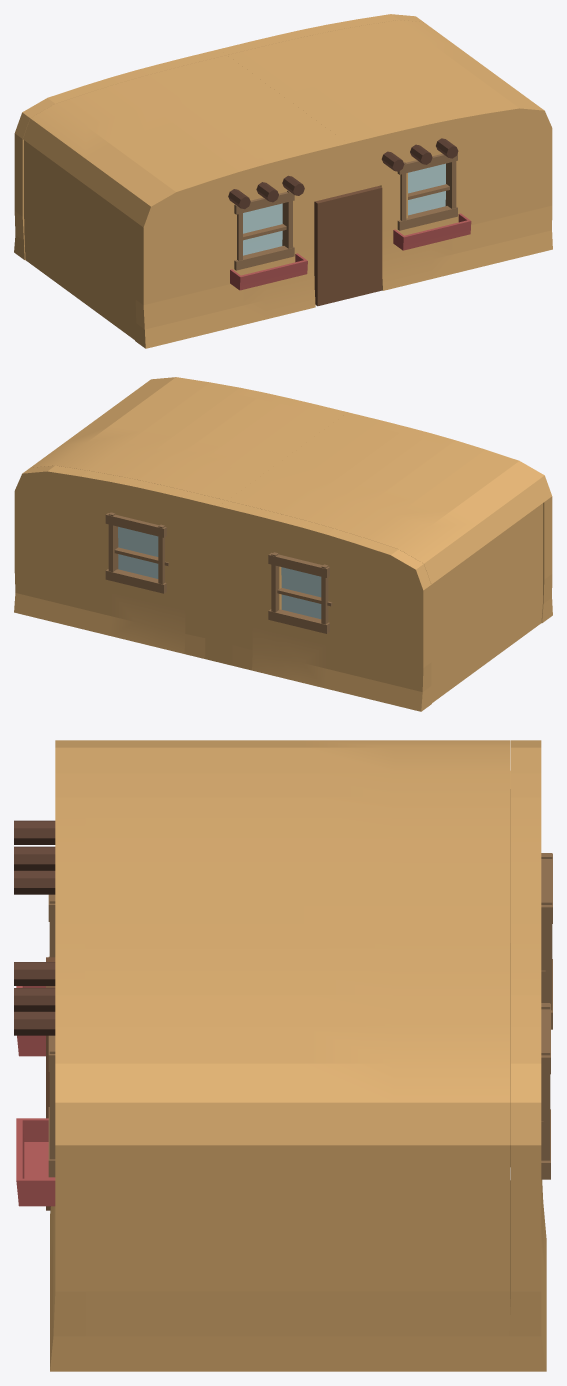
The model's file is atoll_tailorHouse.fbx.
3 renders of one model, top to bottom at view 1: azimuth 30°, elevation 25°; view 2: azimuth 150°, elevation 25°; view 3: azimuth 270°, elevation 25°, orthographic. The views are drawn at different scales.
Parts seen in each view (by area): view 1: Roof, FRONT, L_SIDE, dOOR, BACK, pPlane2 (×2), pCube7 (×2), R_SIDE, pCube3 (×2), pCube2 (×2), pCube5 (×2); view 2: BACK, Roof, L_SIDE, FRONT, pPlane2 (×2), pCube3 (×2), pCube2 (×2), pCube4; view 3: Roof, R_SIDE, BACK, FRONT, pCube7, pCylinder3 (×2), pCylinder2 (×2), pCylinder1 (×2), pCube4 (×2).
Boxes of the visible parts, bbox=[...] form: Roof: bbox=[23, 20, 551, 226]; FRONT: bbox=[135, 108, 552, 348]; L_SIDE: bbox=[24, 140, 136, 339]; dOOR: bbox=[314, 186, 382, 306]; BACK: bbox=[14, 14, 423, 260]; pPlane2 (×2): bbox=[243, 163, 445, 255]; pCube7 (×2): bbox=[230, 213, 471, 290]; R_SIDE: bbox=[532, 128, 552, 254]; pCube3 (×2): bbox=[234, 206, 457, 270]; pCube2 (×2): bbox=[234, 153, 457, 214]; pCube5 (×2): bbox=[282, 161, 456, 248]; BACK: bbox=[14, 465, 431, 711]; Roof: bbox=[31, 377, 543, 584]; L_SIDE: bbox=[431, 503, 542, 702]; FRONT: bbox=[170, 379, 552, 623]; pPlane2 (×2): bbox=[118, 526, 321, 619]; pCube3 (×2): bbox=[105, 569, 329, 633]; pCube2 (×2): bbox=[105, 513, 329, 577]; pCube4: bbox=[108, 512, 118, 571]; Roof: bbox=[55, 740, 510, 1145]; R_SIDE: bbox=[50, 1145, 509, 1371]; BACK: bbox=[505, 740, 546, 1371]; FRONT: bbox=[50, 740, 90, 1371]; pCube7: bbox=[16, 1118, 55, 1206]; pCylinder3 (×2): bbox=[14, 870, 55, 1035]; pCylinder2 (×2): bbox=[14, 846, 55, 1011]; pCylinder1 (×2): bbox=[14, 820, 55, 985]; pCube4 (×2): bbox=[541, 898, 552, 1160].
Bounding box in the file's own units: 24.33 × 8.87 × 14.75.
